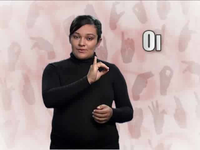oi: (84, 54, 111, 87)
